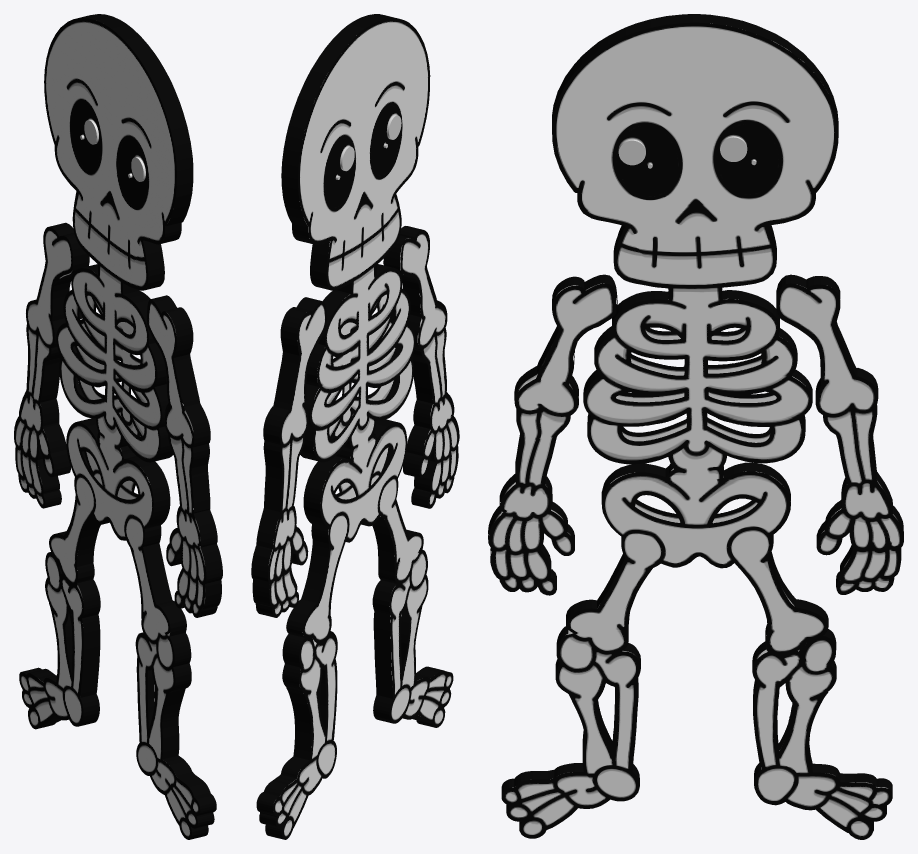
Rendered from Skeleton.fbx.
3 renders of one model, left to right at view 1: azimuth 30°, elevation 25°; view 2: azimuth 150°, elevation 25°; view 3: azimuth 270°, elevation 25°, orthographic. The views are drawn at different scales.
Visible parts, largest first — view 1: Skeleton, Hand2, Hand1; view 2: Skeleton, Hand1, Hand2; view 3: Skeleton, Hand2, Hand1.
Part boxes in pixels (bbox=[...]): Skeleton: bbox=[19, 14, 216, 839]; Hand2: bbox=[146, 295, 222, 617]; Hand1: bbox=[14, 222, 89, 508]; Skeleton: bbox=[256, 14, 453, 839]; Hand1: bbox=[251, 297, 326, 617]; Hand2: bbox=[383, 226, 459, 508]; Skeleton: bbox=[501, 14, 892, 839]; Hand2: bbox=[488, 274, 617, 595]; Hand1: bbox=[776, 274, 903, 594].
Bounding box in the file's own units: 12.63 × 436 × 201.
